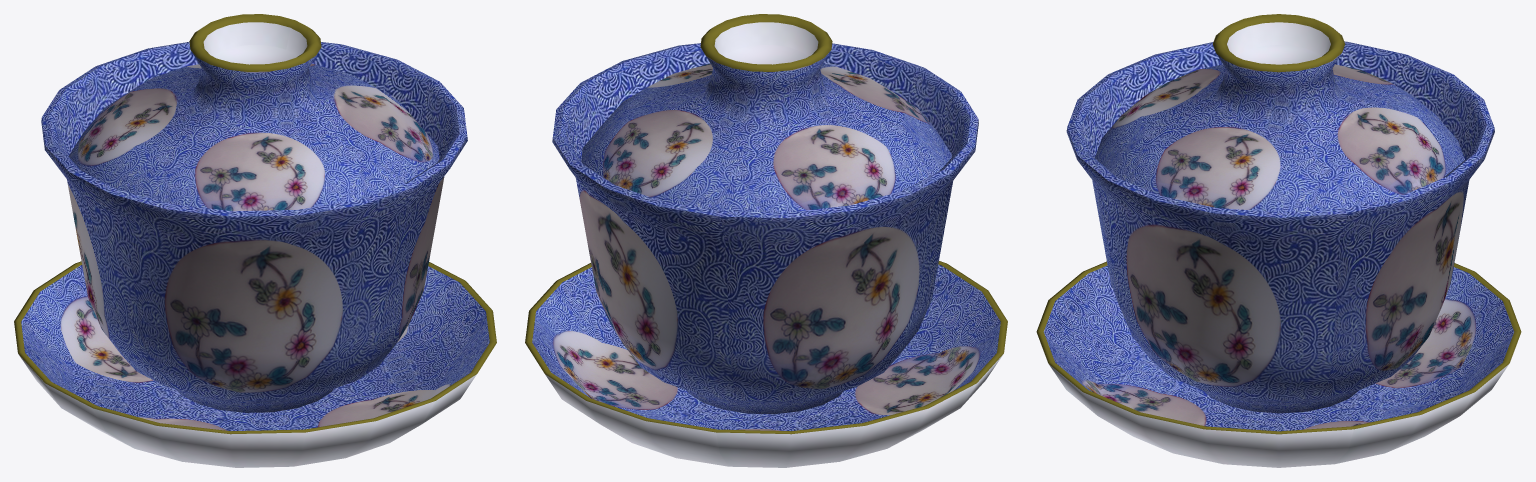
The model's file is wan08_01.FBX.
The picture shows the model from 3 angles, left to right: view 1: azimuth 30°, elevation 25°; view 2: azimuth 150°, elevation 25°; view 3: azimuth 270°, elevation 25°; orthographic projection.
Parts seen in each view (by area): view 1: pCylinder5, pCylinder6, pCylinder7; view 2: pCylinder5, pCylinder6, pCylinder7; view 3: pCylinder5, pCylinder6, pCylinder7.
Part boxes in pixels (bbox=[...]): pCylinder5: bbox=[41, 41, 467, 412]; pCylinder6: bbox=[68, 14, 439, 211]; pCylinder7: bbox=[14, 261, 496, 467]; pCylinder5: bbox=[552, 43, 978, 414]; pCylinder6: bbox=[581, 14, 951, 212]; pCylinder7: bbox=[525, 261, 1007, 467]; pCylinder5: bbox=[1066, 41, 1494, 413]; pCylinder6: bbox=[1095, 14, 1464, 212]; pCylinder7: bbox=[1036, 261, 1521, 467].
Size of the model in its own units: 119 by 101 by 119.
